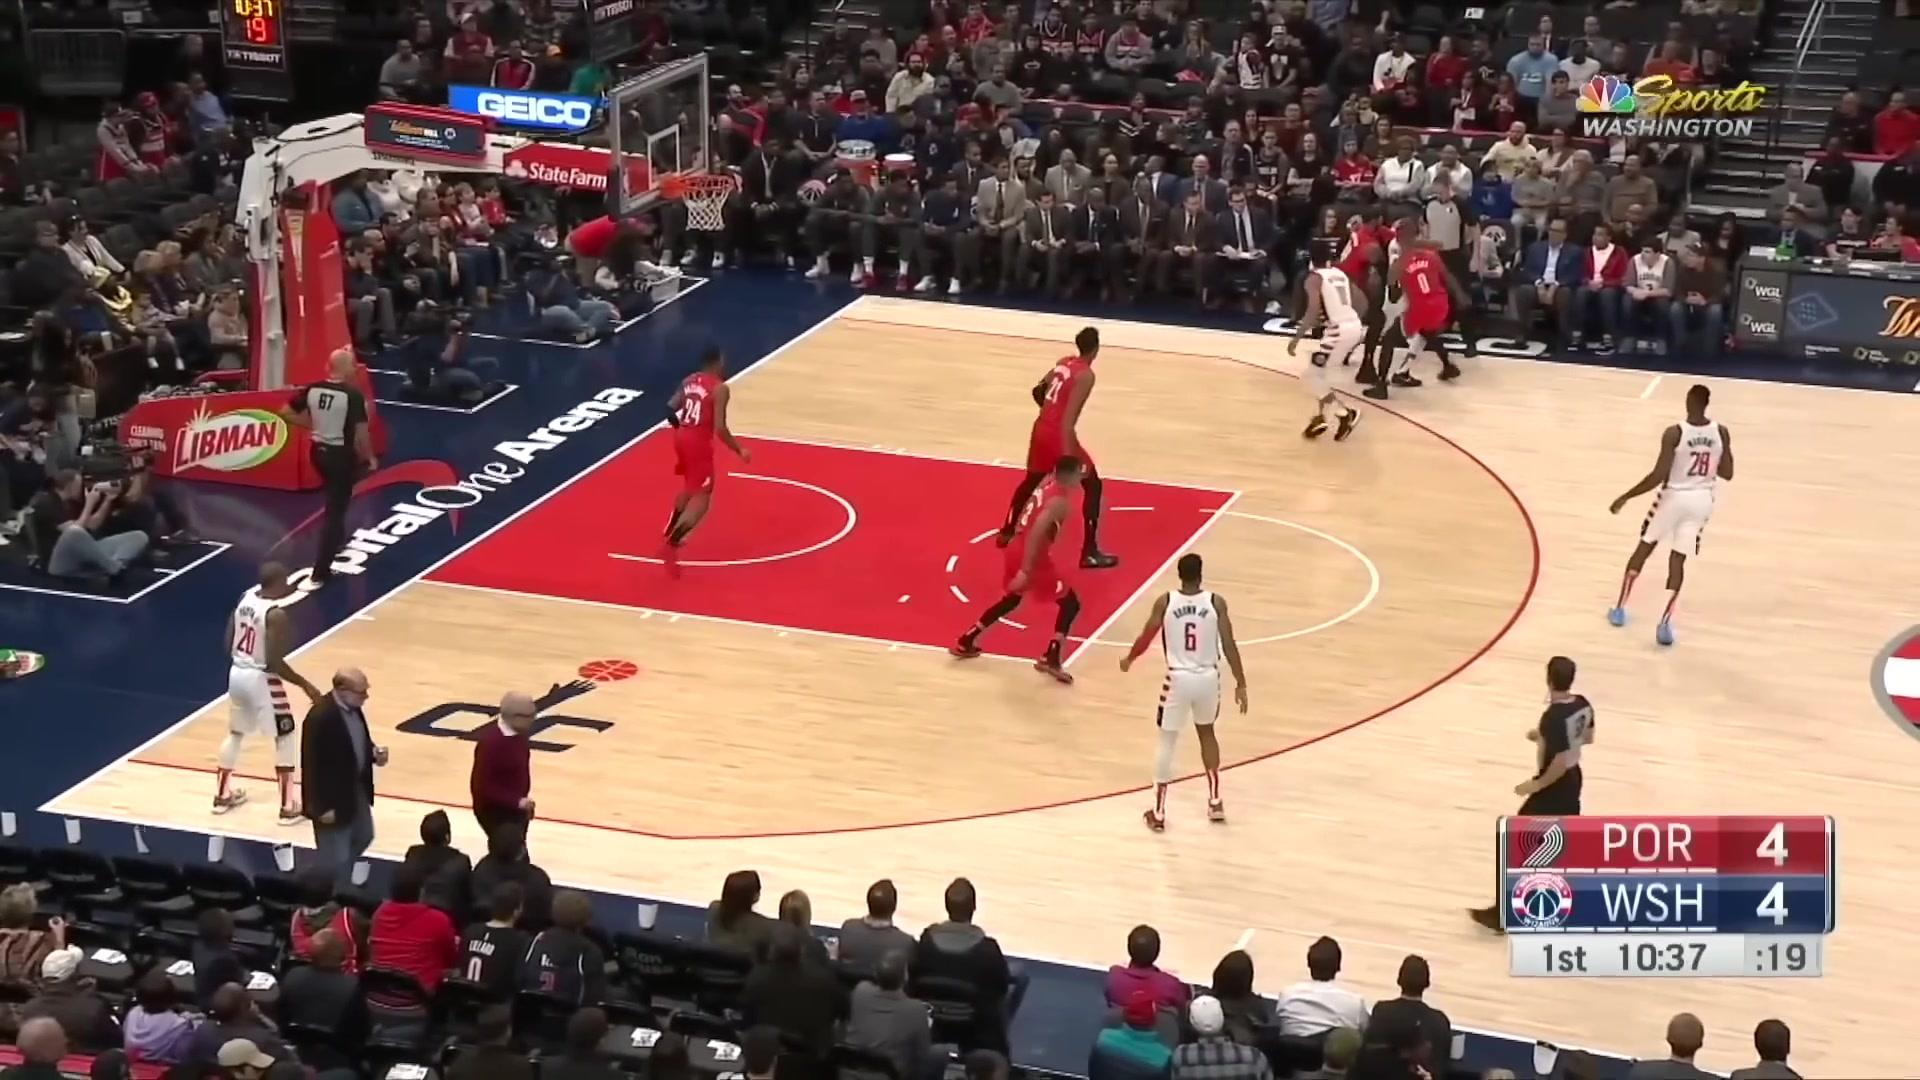foul: (1278, 218, 1457, 423)
